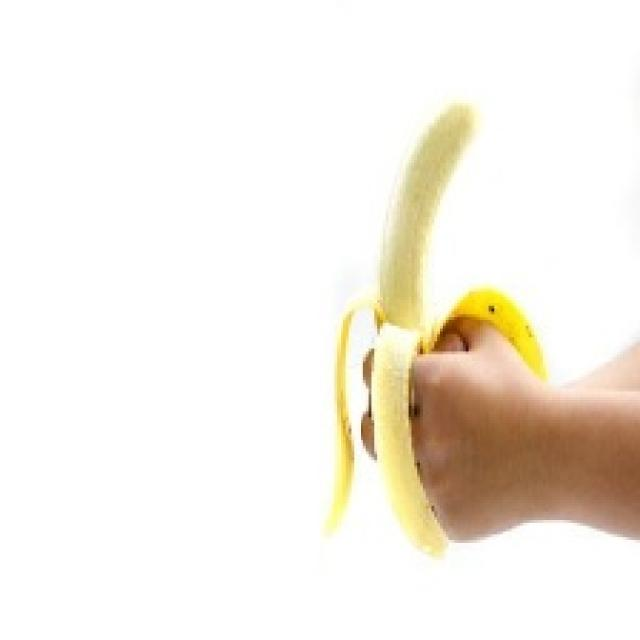Banana: (323, 97, 548, 557)
